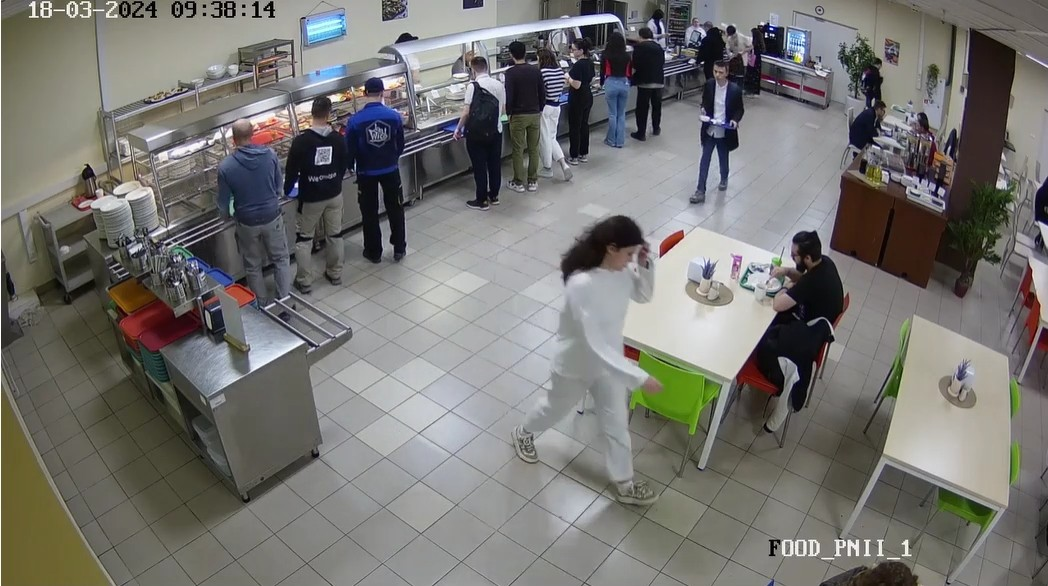Na_Kasse: (729, 21, 750, 91), (696, 19, 728, 58), (750, 23, 766, 97)
Ne_v_Ocheredi: (504, 214, 670, 498)
Personal: (679, 13, 707, 44), (454, 34, 476, 70), (646, 5, 667, 29)
Vybiraet: (211, 119, 300, 315), (346, 81, 418, 263), (288, 94, 348, 282), (449, 47, 508, 208), (530, 48, 577, 179), (501, 45, 542, 190), (565, 36, 592, 159), (604, 26, 629, 139), (638, 26, 663, 134)
Za_Stolom: (758, 231, 853, 338), (784, 544, 914, 586), (839, 97, 884, 172), (1028, 166, 1048, 251), (906, 112, 944, 155), (854, 56, 889, 102)
